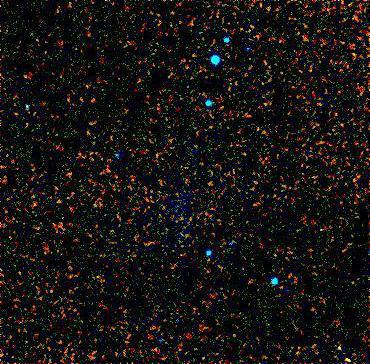star: (325, 335, 355, 364)
